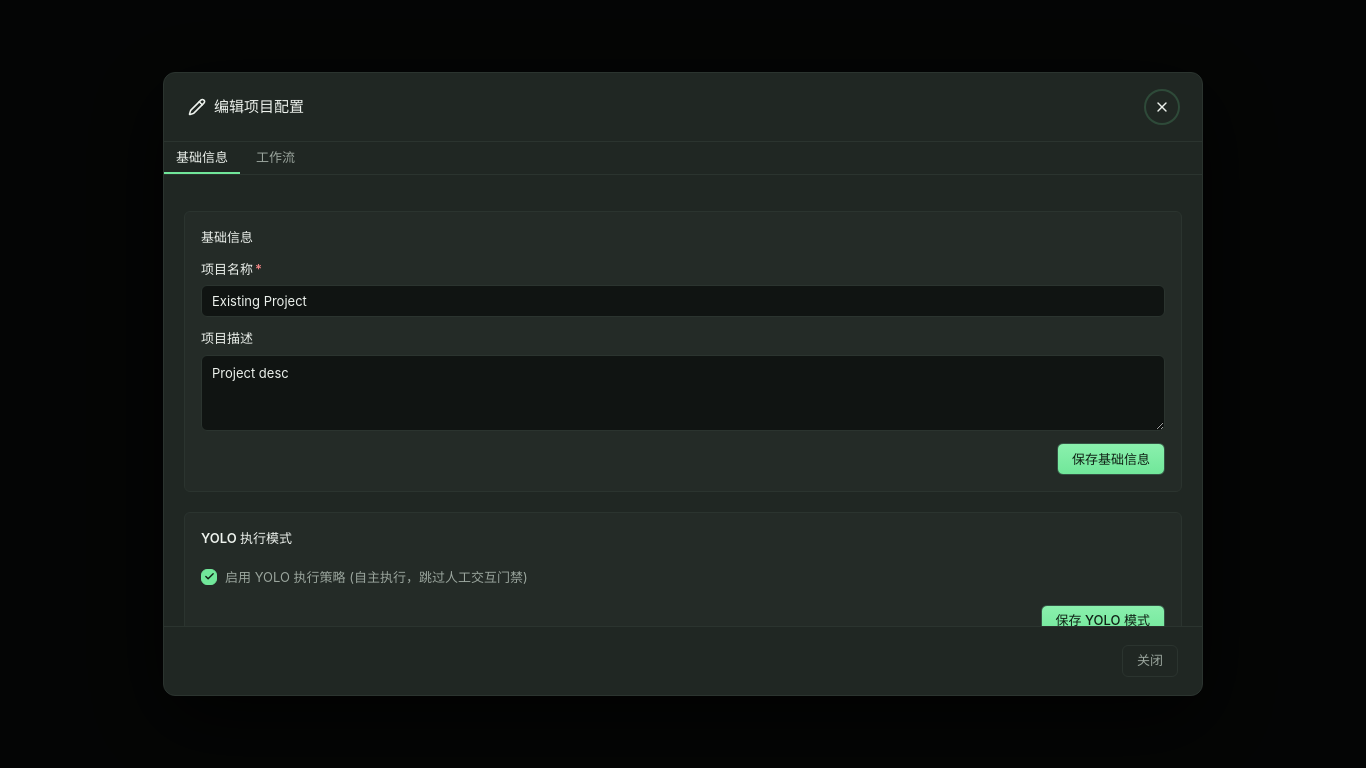
it: EditProjectModal › validates empty title and displays validation error
Clear the field labelled "项目名称 *" at [683, 301], box [201,285,1165,317]
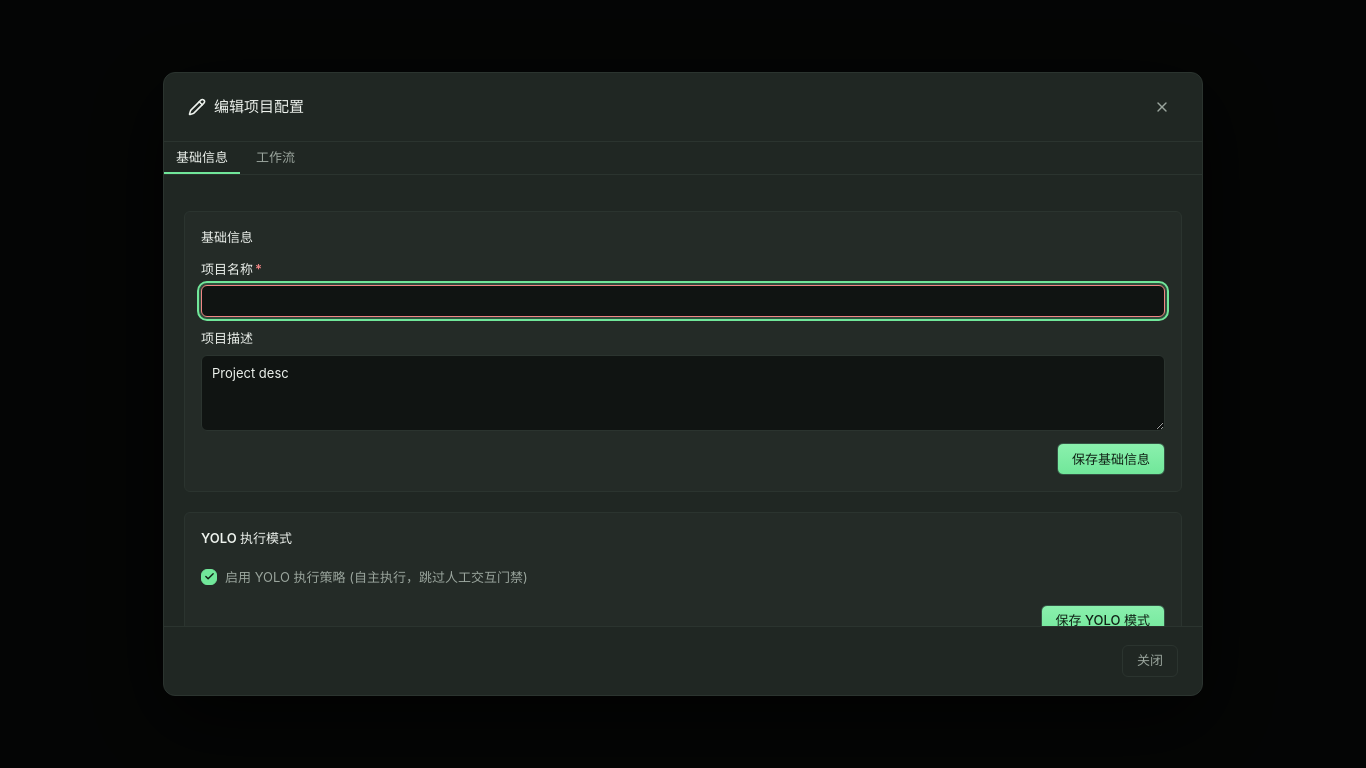
Click the button "保存基础信息".
click(1111, 459)  # box [1057,443,1165,475]
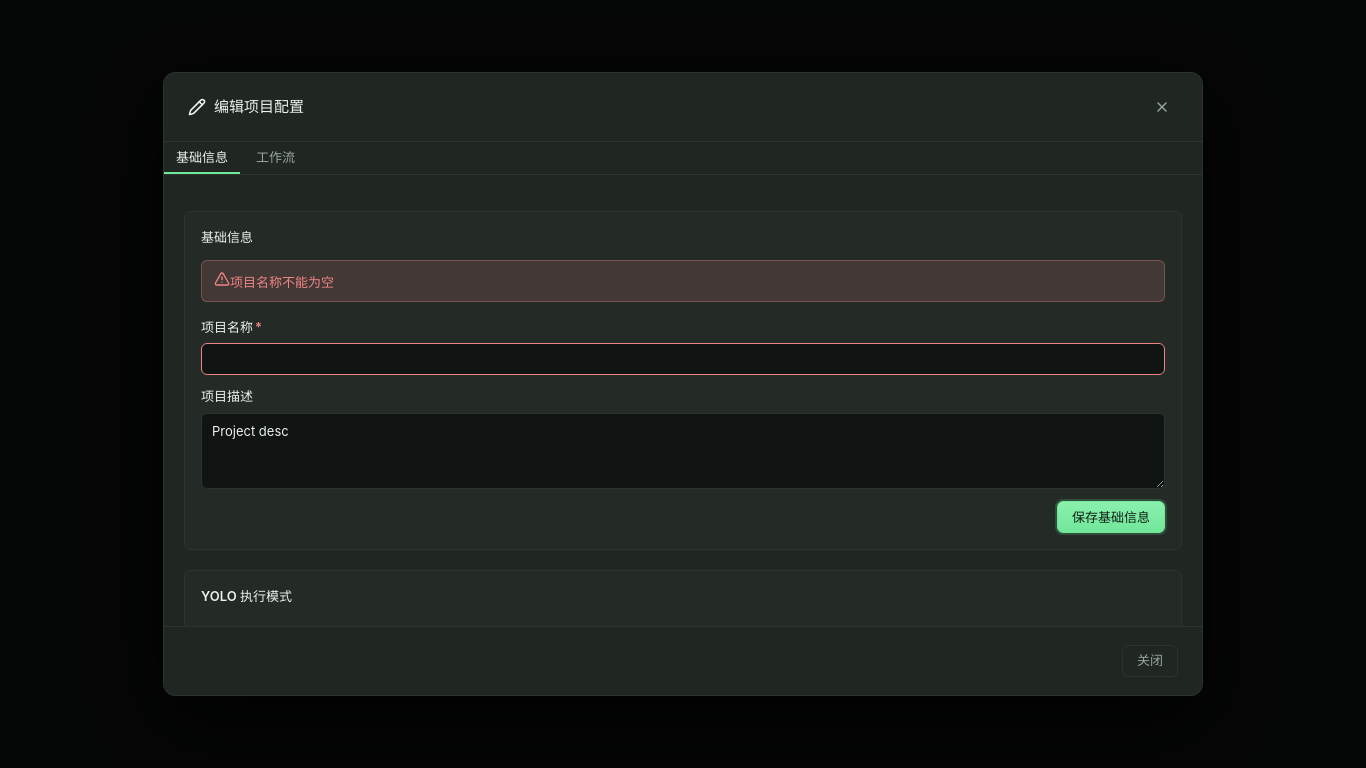
Result: the text "项目名称不能为空" is shown at [230,274,334,290]
